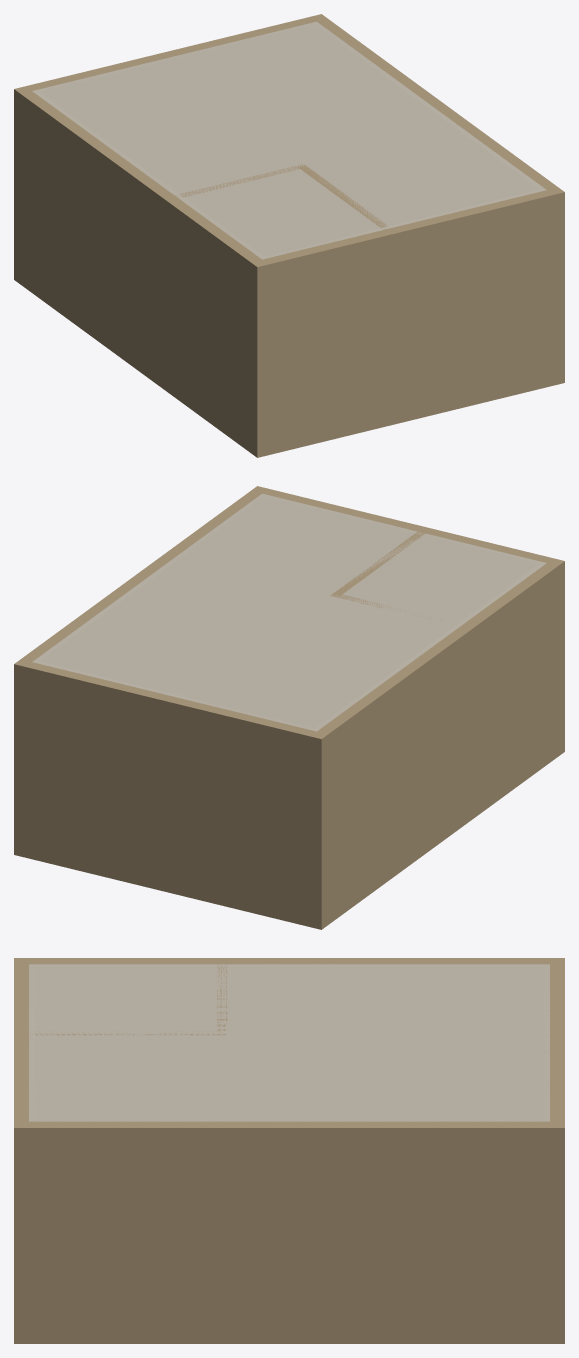
Rendered from int_room_standard.glb.
3 renders of one model, top to bottom at view 1: azimuth 30°, elevation 25°; view 2: azimuth 150°, elevation 25°; view 3: azimuth 270°, elevation 25°, orthographic. The views are drawn at different scales.
Visible parts, largest first — view 1: ROOM; view 2: ROOM; view 3: ROOM.
Part boxes in pixels (box(x1,y1,x2,y2)): ROOM: box(14, 14, 564, 457); ROOM: box(14, 486, 564, 929); ROOM: box(14, 958, 564, 1343).
Size of the model in its own units: 5.4 by 3.2 by 7.4.
